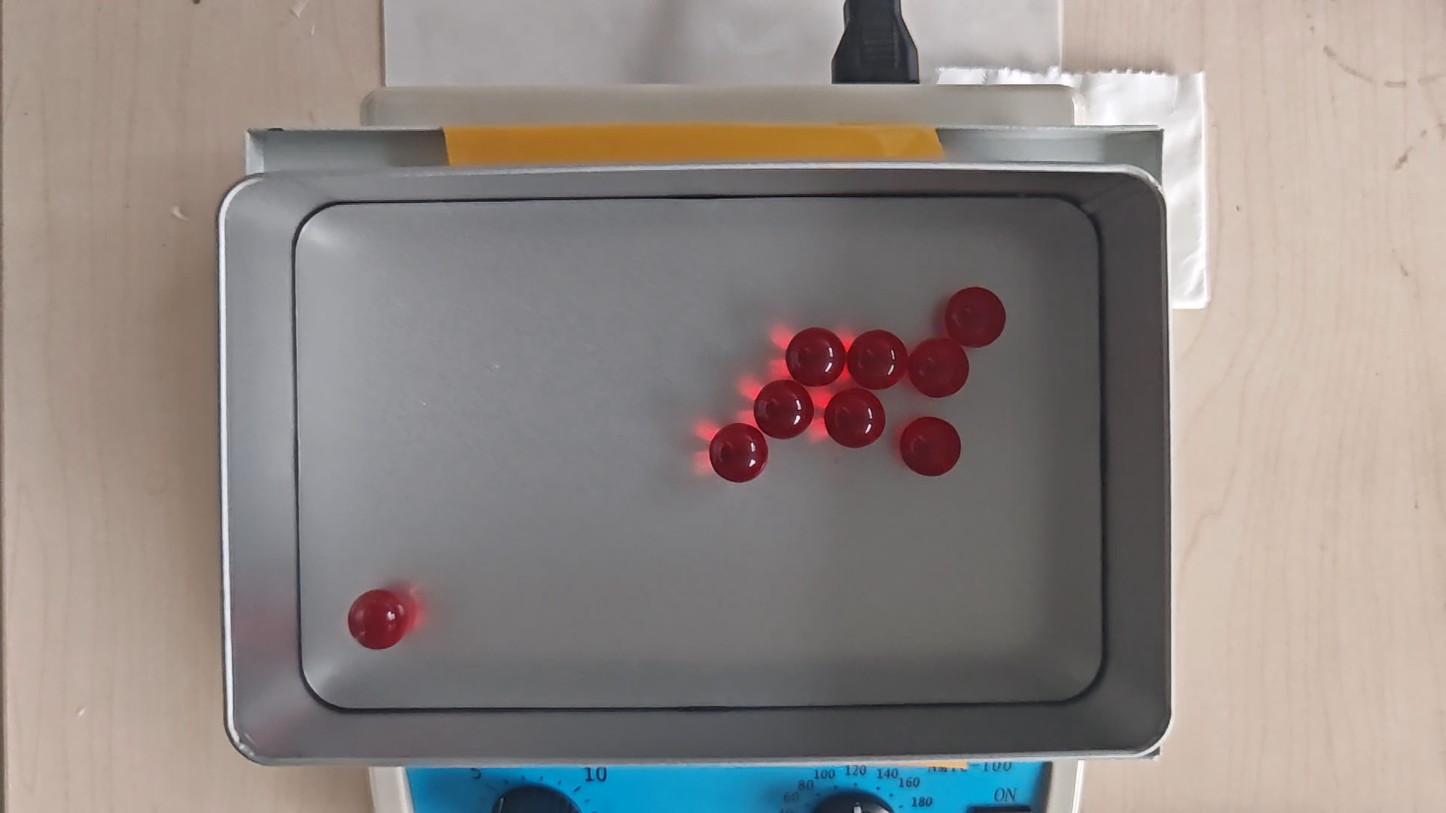ball: (346, 588, 409, 651), (900, 416, 961, 478), (908, 338, 970, 399), (709, 422, 770, 484), (945, 286, 1006, 347), (825, 388, 885, 449), (755, 380, 814, 439), (786, 326, 845, 385), (848, 329, 905, 389)
container: (296, 196, 1103, 708)
